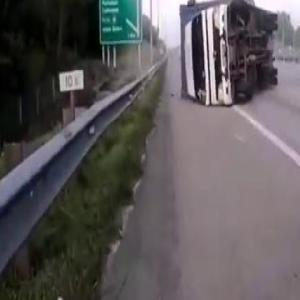critical: (174, 0, 283, 112)
